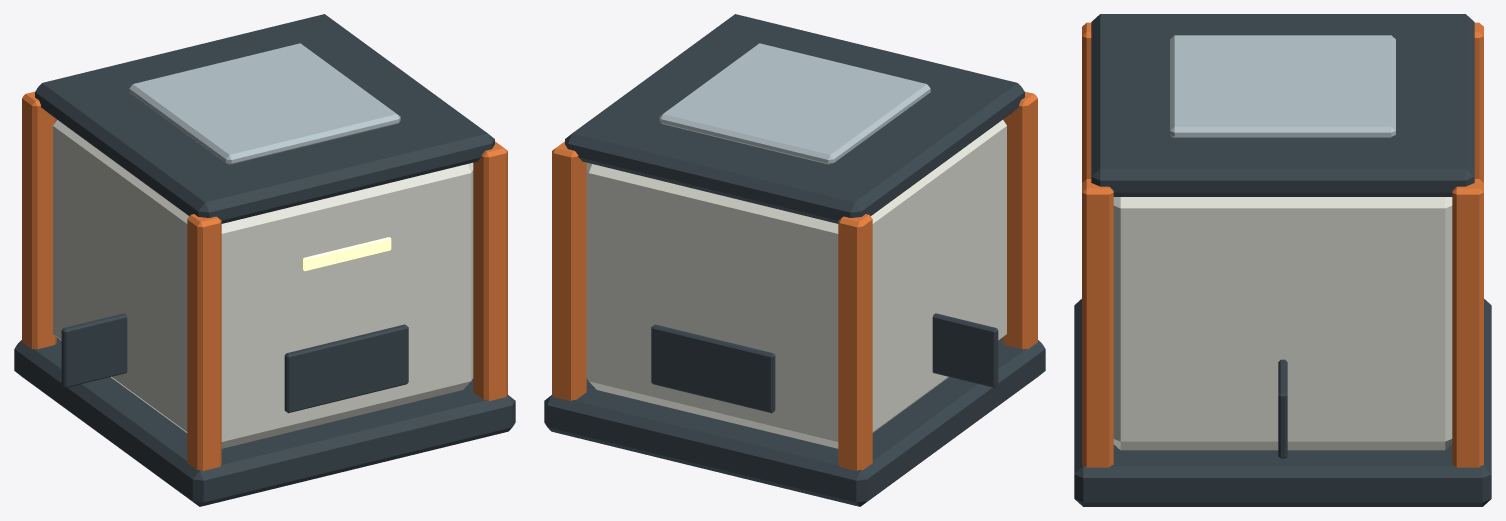
File: storage.glb
3 views of the same model, side by side, from view 1: azimuth 30°, elevation 25°; view 2: azimuth 150°, elevation 25°; view 3: azimuth 270°, elevation 25° (orthographic). The views are drawn at different scales.
Visible parts, largest first — view 1: storage_ivory, storage_dark, storage_orange, storage_metal, storage_light; view 2: storage_ivory, storage_dark, storage_orange, storage_metal; view 3: storage_ivory, storage_dark, storage_metal, storage_orange.
Boxes of the visible parts, box(x1,y1,x2,y2) form: storage_ivory: box(53, 119, 473, 448); storage_dark: box(14, 14, 515, 506); storage_orange: box(22, 91, 507, 470); storage_metal: box(129, 43, 400, 164); storage_light: box(303, 237, 391, 271); storage_ivory: box(586, 119, 1006, 448); storage_dark: box(544, 14, 1045, 506); storage_orange: box(552, 91, 1037, 470); storage_metal: box(659, 43, 930, 164); storage_ivory: box(1113, 197, 1452, 450); storage_dark: box(1074, 14, 1491, 506); storage_metal: box(1170, 35, 1395, 137); storage_orange: box(1082, 22, 1483, 467).
Bounding box in the file's own units: 2.32 × 1.67 × 1.85.
